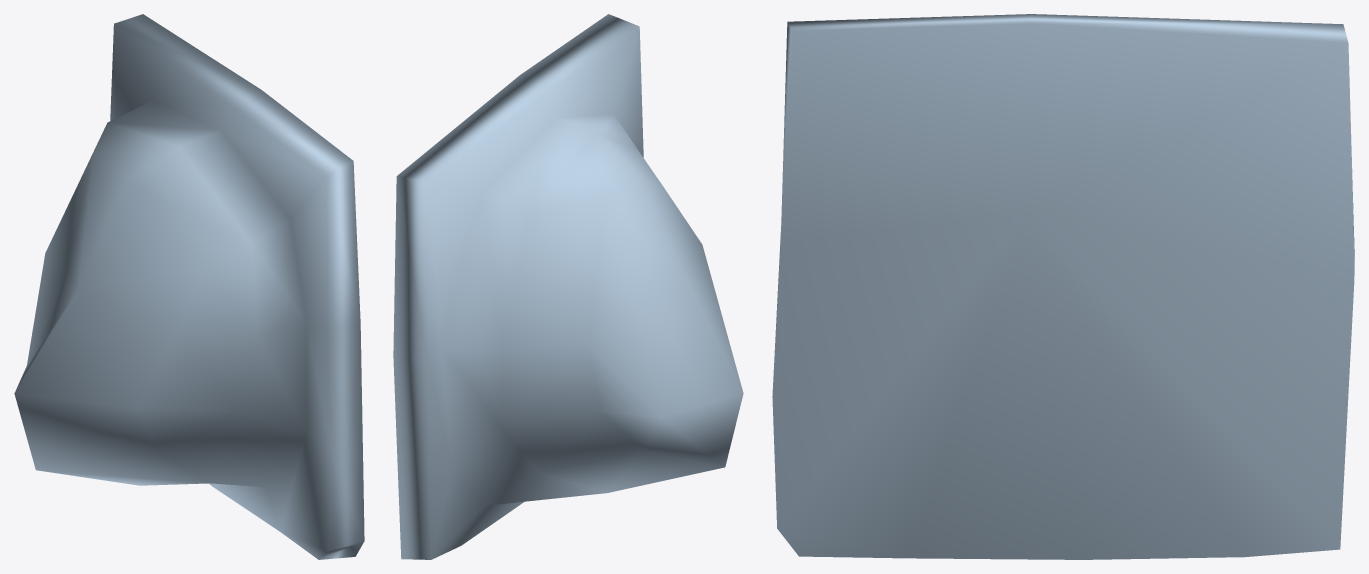
The model's file is Statue_08_Lod1.fbx.
3 renders of one model, left to right at view 1: azimuth 30°, elevation 25°; view 2: azimuth 150°, elevation 25°; view 3: azimuth 270°, elevation 25°, orthographic. The views are drawn at different scales.
Visible parts, largest first — view 1: Statue_08_Lod1; view 2: Statue_08_Lod1; view 3: Statue_08_Lod1.
Boxes of the visible parts, x1,y1,x2,y2 form: Statue_08_Lod1: (14,14,364,559); Statue_08_Lod1: (393,14,743,559); Statue_08_Lod1: (772,14,1354,559).
Size of the model in its own units: 40.62 by 65.09 by 64.45.
